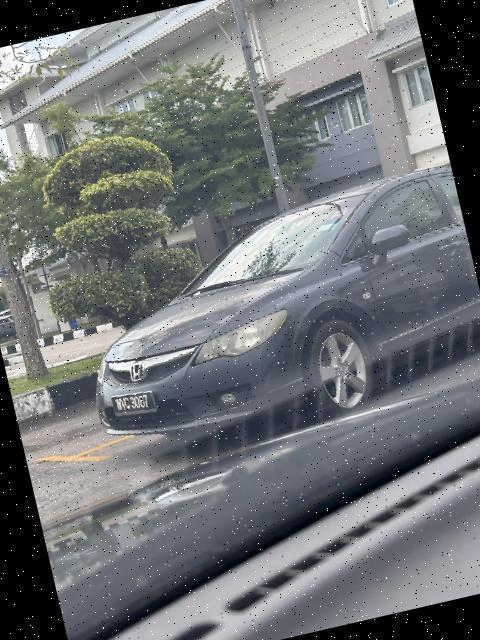License_Plate: (107, 384, 165, 428)
WYC3067: (107, 384, 165, 428)
